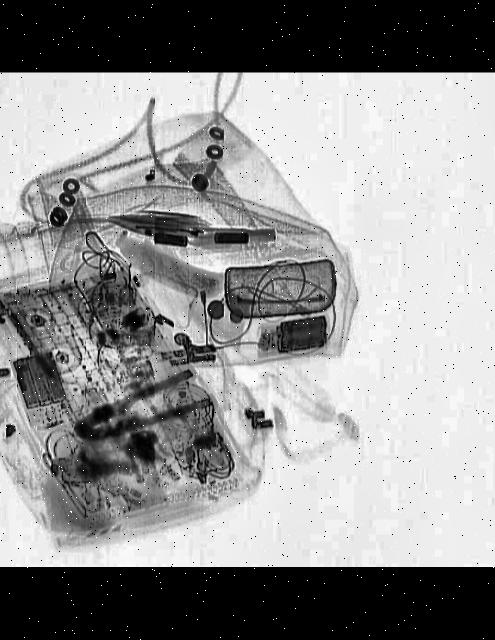Pliers: (64, 366, 214, 449)
